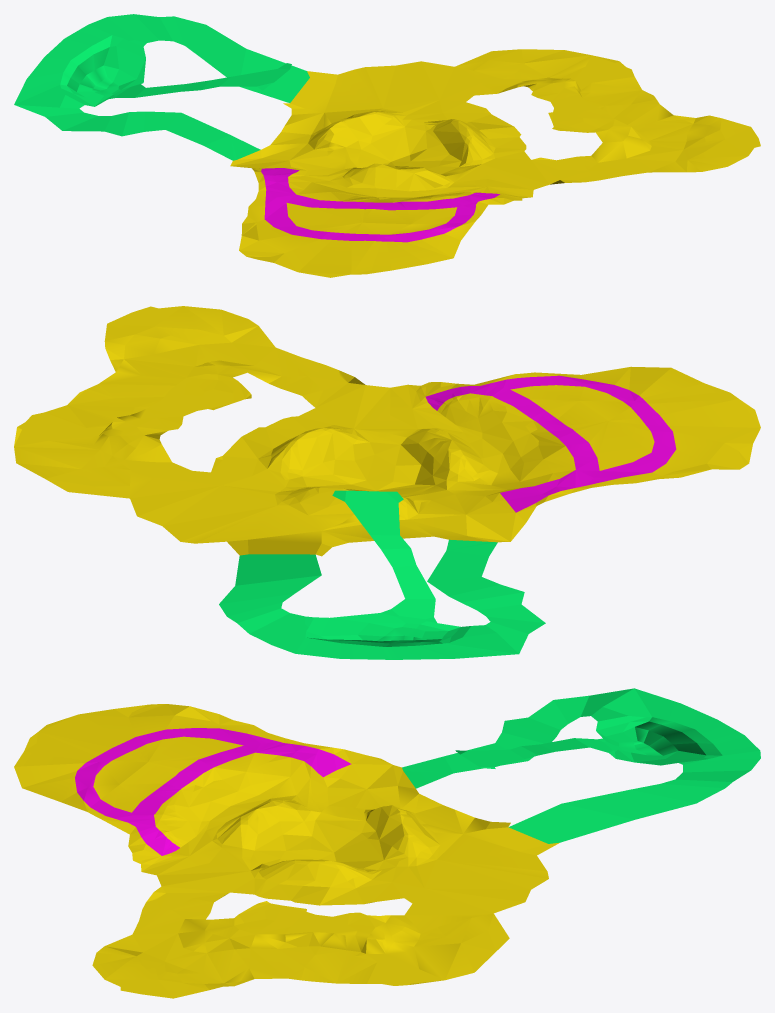
Rendered from wholeFloor.fbx.
The picture shows the model from 3 angles, top to bottom: view 1: azimuth 30°, elevation 25°; view 2: azimuth 150°, elevation 25°; view 3: azimuth 270°, elevation 25°; orthographic projection. The views are drawn at different scales.
Parts seen in each view (by area): view 1: polySurface2; view 2: polySurface2; view 3: polySurface2.
Part boxes in pixels (x1=…): polySurface2: x1=14, y1=14, x2=760, y2=277; polySurface2: x1=14, y1=306, x2=760, y2=659; polySurface2: x1=14, y1=688, x2=760, y2=998.
Size of the model in its own units: 690 by 69.84 by 720.
